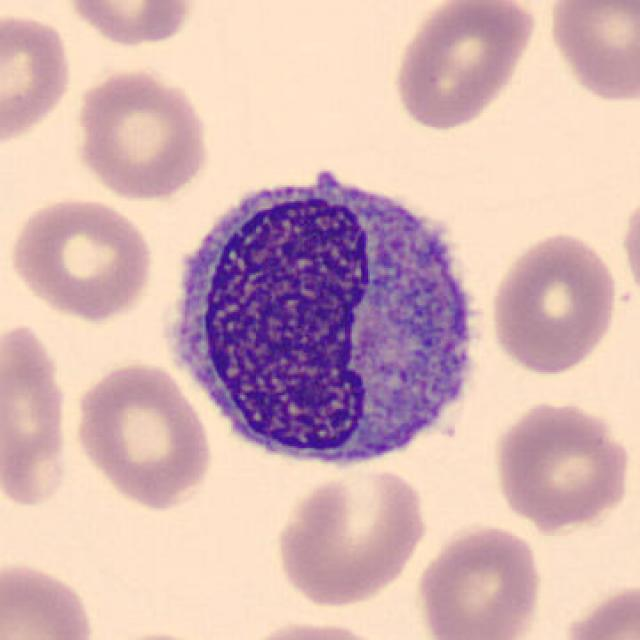Monocyte: (153, 152, 496, 484)
RBC: (270, 460, 430, 610), (69, 358, 215, 513), (486, 228, 620, 378), (390, 0, 540, 132), (5, 192, 156, 323), (489, 397, 635, 532), (71, 65, 213, 203), (412, 520, 546, 640), (0, 312, 75, 518), (0, 8, 76, 148), (542, 0, 638, 106), (0, 555, 100, 640), (60, 0, 197, 49), (558, 578, 638, 640), (231, 617, 397, 640), (618, 181, 640, 310)
